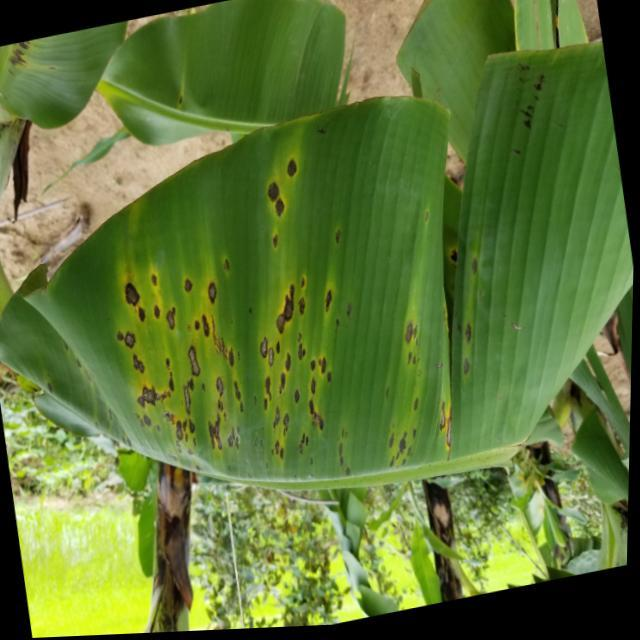Early_rust: (90, 126, 492, 507)
